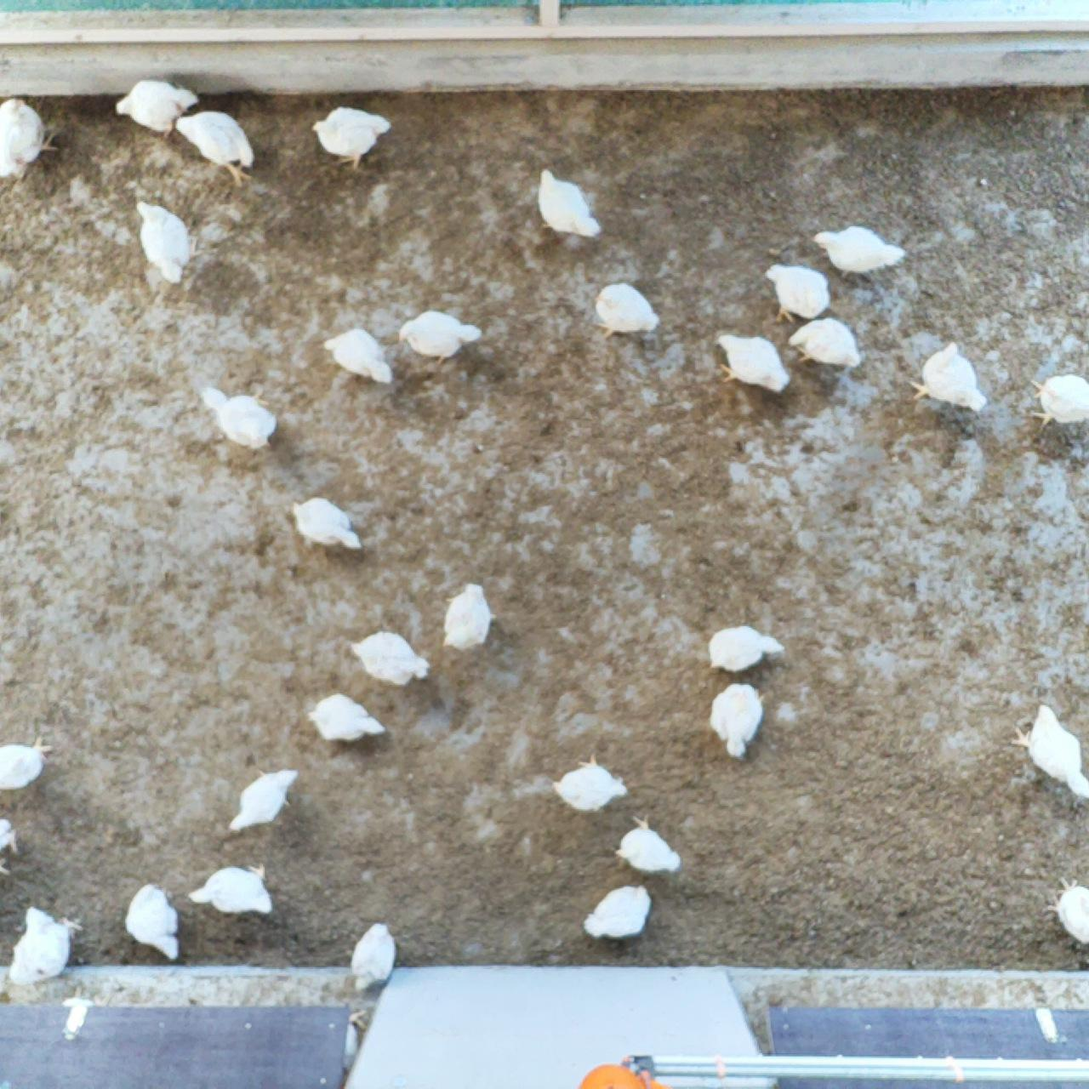chicken: (1009, 701, 1089, 801), (173, 106, 257, 191), (7, 902, 84, 989), (131, 197, 206, 286), (907, 340, 990, 416), (309, 103, 395, 172), (198, 382, 280, 453), (112, 76, 201, 140), (0, 94, 62, 184), (534, 164, 605, 242), (713, 330, 790, 401), (187, 860, 276, 919), (396, 308, 483, 368), (808, 225, 908, 277), (228, 767, 302, 837), (348, 628, 432, 688), (707, 680, 770, 760), (551, 751, 629, 814), (124, 880, 182, 964), (763, 260, 836, 324), (322, 326, 396, 389), (289, 494, 364, 555), (613, 812, 683, 876), (307, 691, 388, 746), (705, 623, 787, 677), (439, 580, 498, 653), (591, 280, 662, 340), (582, 881, 654, 940), (786, 316, 863, 371), (1026, 372, 1089, 432), (1040, 872, 1089, 948), (349, 920, 399, 994), (0, 735, 55, 793)
